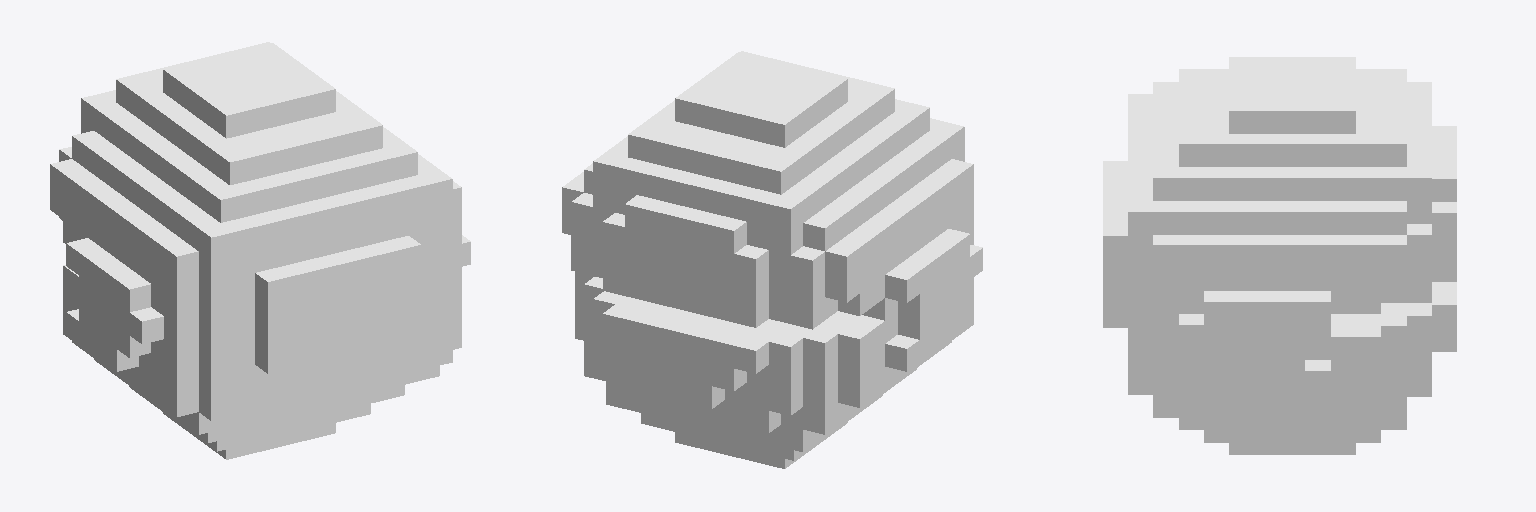
Rendered from pacman2.obj.
The picture shows the model from 3 angles: view 1: azimuth 30°, elevation 25°; view 2: azimuth 150°, elevation 25°; view 3: azimuth 270°, elevation 25°; orthographic projection.
Size of the model in its own units: 15 by 15 by 14.